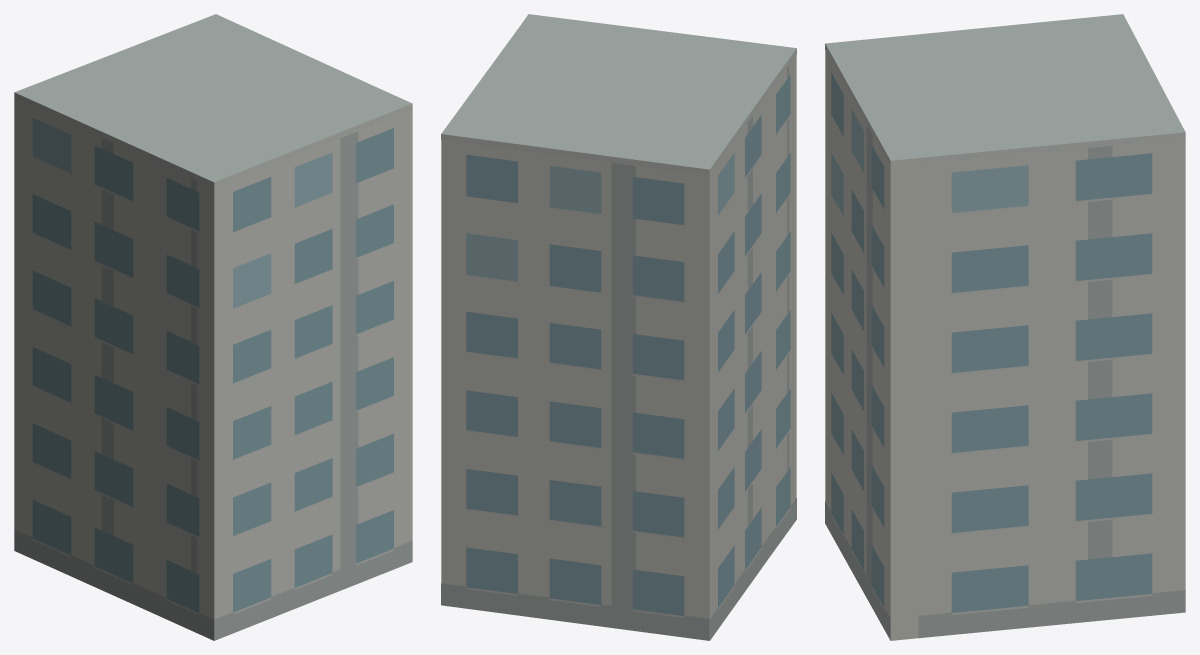
The model's file is survey-upis-32800128.glb.
3 views of the same model, side by side, from view 1: azimuth 30°, elevation 25°; view 2: azimuth 150°, elevation 25°; view 3: azimuth 270°, elevation 25° (orthographic). The views are drawn at different scales.
Parts seen in each view (by area): view 1: survey-upis-32800128.tmp; view 2: survey-upis-32800128.tmp; view 3: survey-upis-32800128.tmp.
Boxes of the visible parts, x1,y1,x2,y2 form: survey-upis-32800128.tmp: (14,14,412,640); survey-upis-32800128.tmp: (441,14,796,640); survey-upis-32800128.tmp: (825,14,1185,640).
Bounding box in the file's own units: 12.07 × 18.4 × 12.53.
